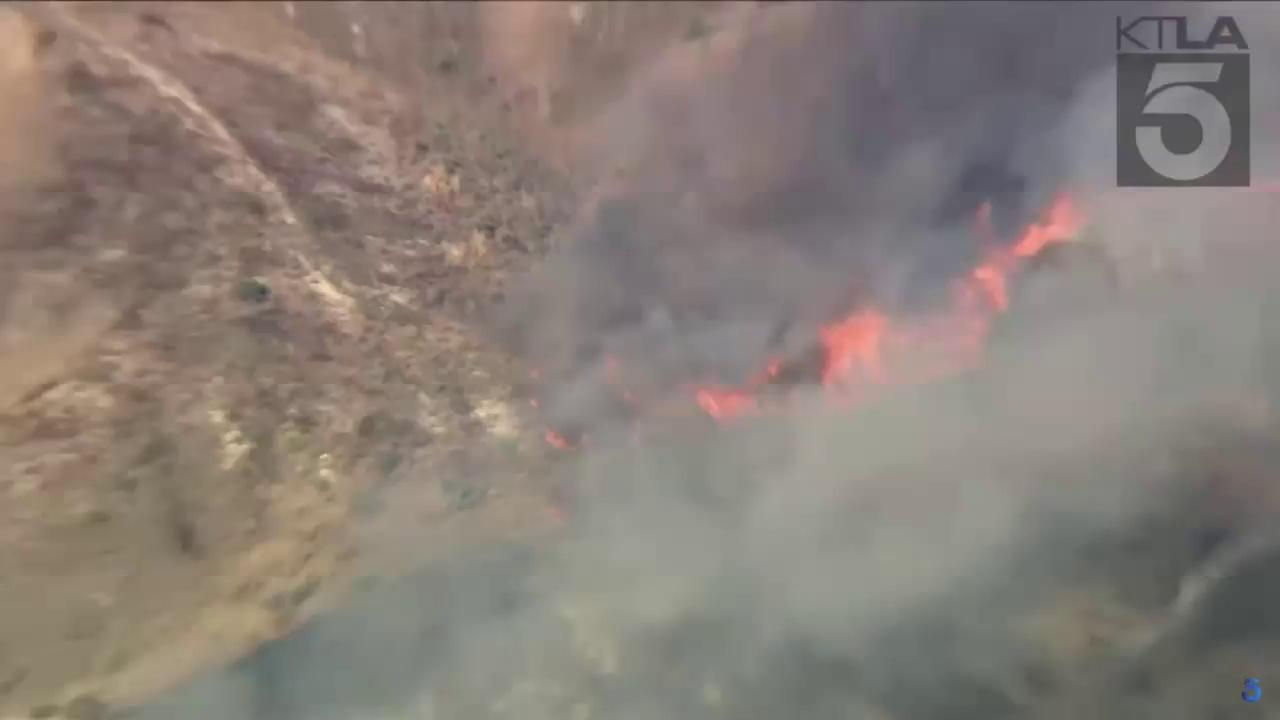fire: (818, 189, 1093, 414), (686, 357, 782, 435), (541, 428, 568, 454), (524, 396, 543, 412)
smoke: (160, 0, 1280, 720)
